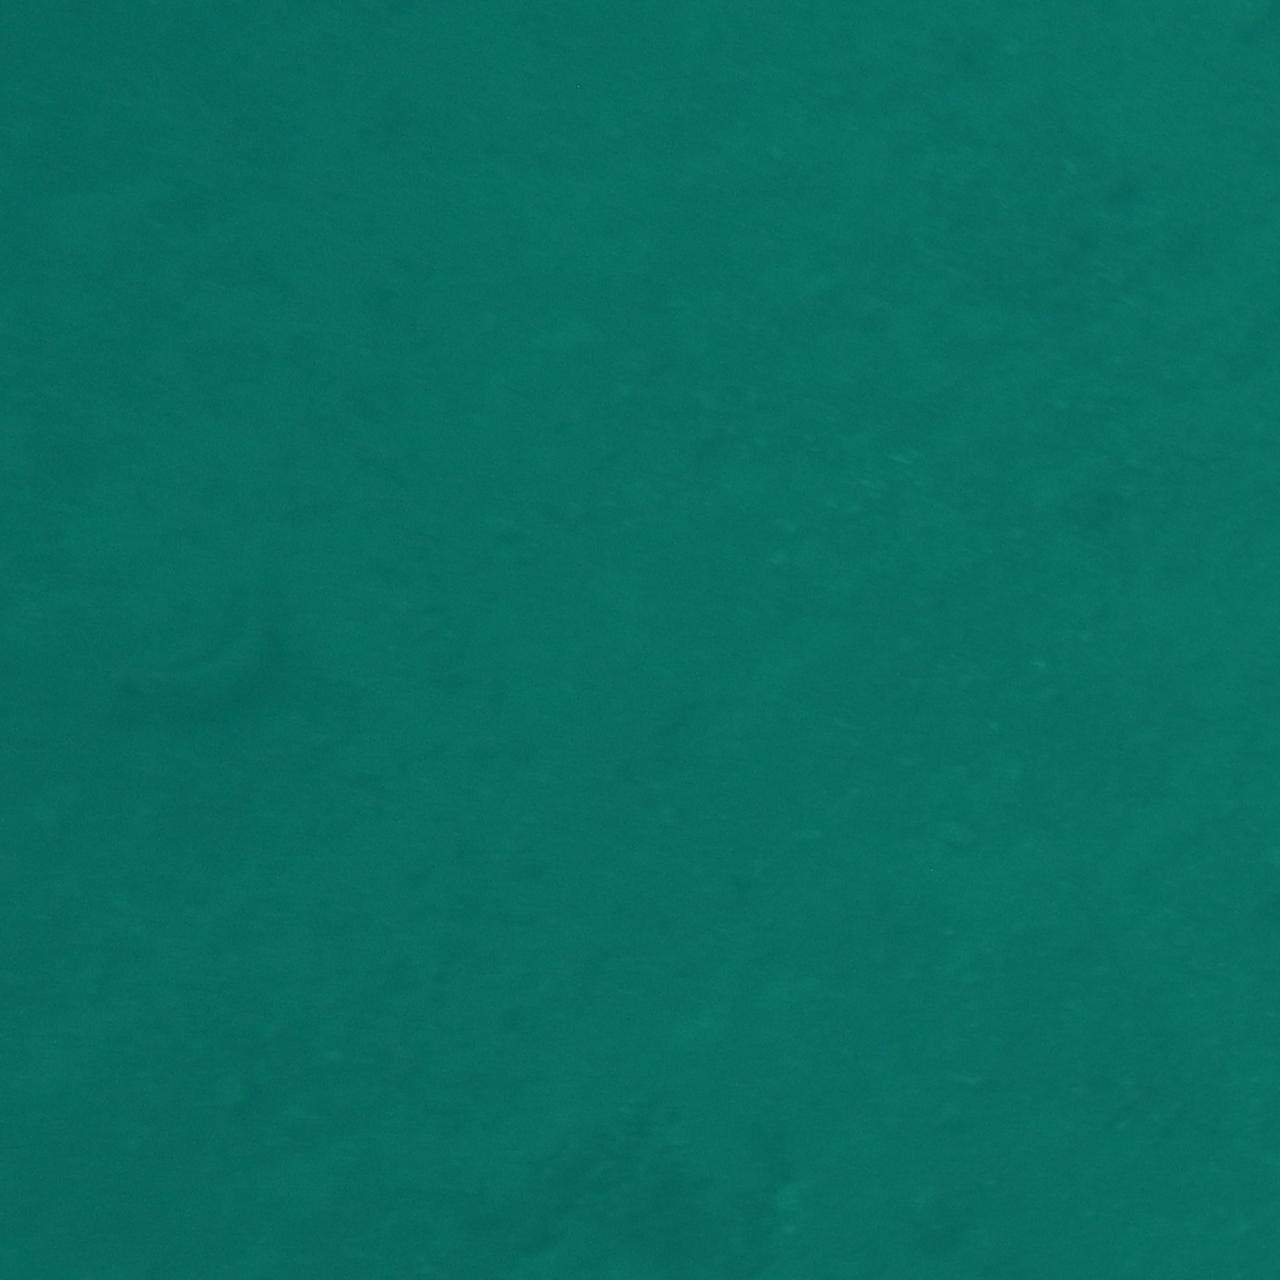Holothuria tubulosa: (84, 529, 301, 751)
